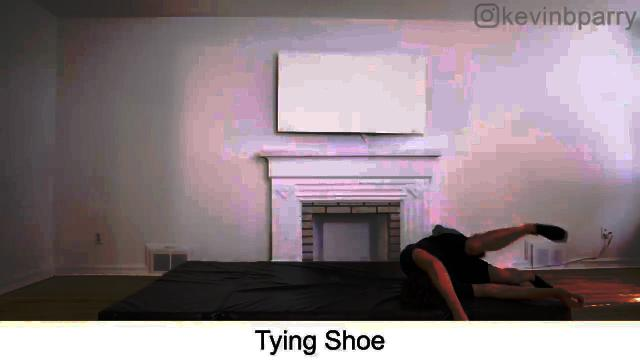jatuh: (384, 205, 588, 323)
